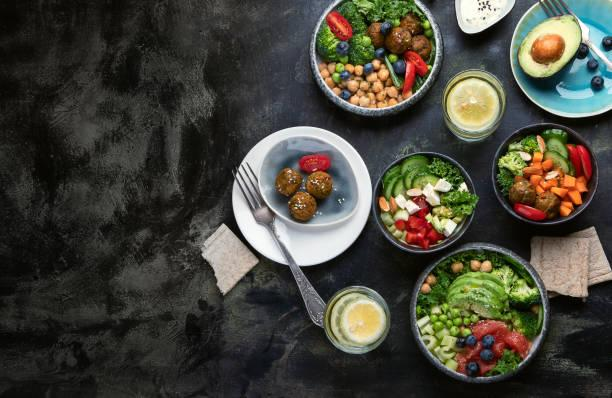Braised Crucian Carp: (409, 242, 549, 385), (233, 125, 369, 267), (309, 0, 438, 117), (510, 0, 608, 118), (492, 123, 596, 227), (373, 151, 476, 254)
